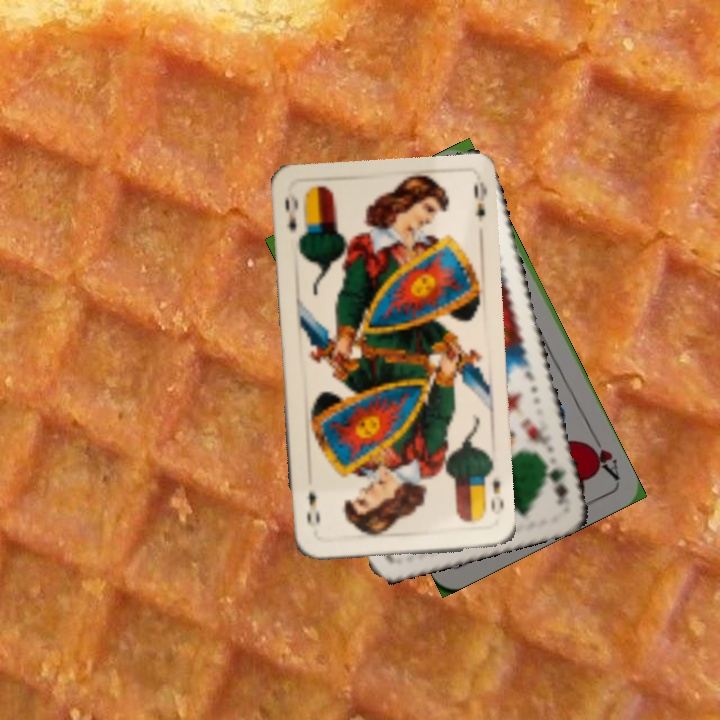EO: (281, 188, 301, 234), (487, 473, 507, 514)
GK: (539, 453, 570, 508)
HA: (581, 428, 622, 483)
